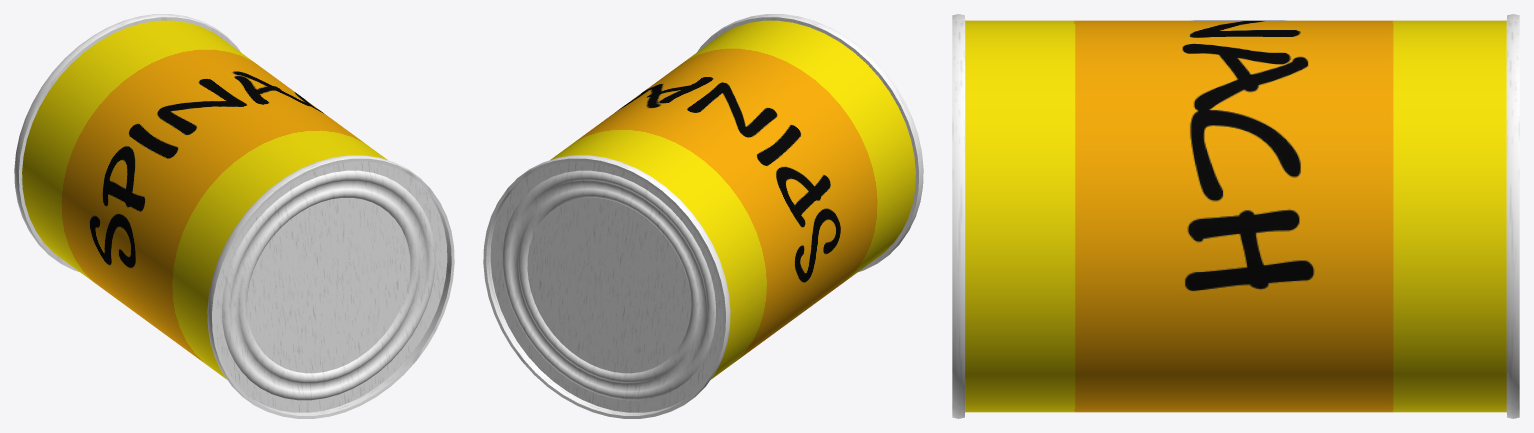
Rendered from spinach.FBX.
The picture shows the model from 3 angles, left to right: view 1: azimuth 30°, elevation 25°; view 2: azimuth 150°, elevation 25°; view 3: azimuth 270°, elevation 25°; orthographic projection. The views are drawn at different scales.
Visible parts, largest first — view 1: beets #1; view 2: beets #1; view 3: beets #1.
Boxes of the visible parts, x1=… form: beets #1: x1=14, y1=14, x2=454, y2=418; beets #1: x1=483, y1=14, x2=923, y2=418; beets #1: x1=952, y1=14, x2=1519, y2=418.
Size of the model in its own units: 0.3089 by 0.3089 by 0.4323.
